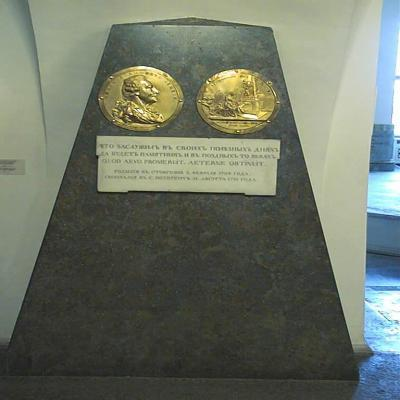sculpture: (6, 18, 358, 382)
